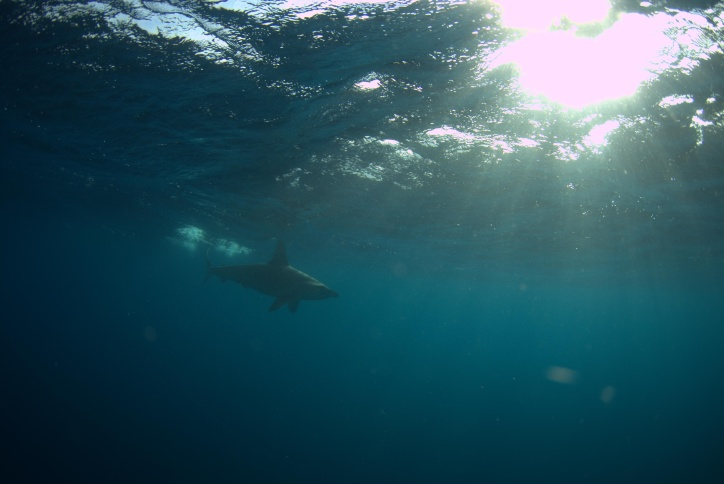Hammer: (177, 222, 353, 324)
